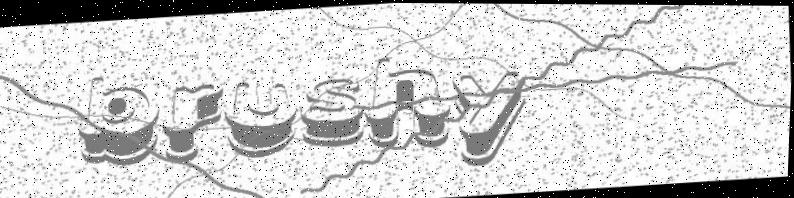b: (72, 72, 162, 170)
h: (360, 50, 457, 154)
r: (158, 80, 229, 168)
s: (298, 75, 368, 152)
u: (222, 77, 300, 160)
y: (448, 69, 534, 171)
